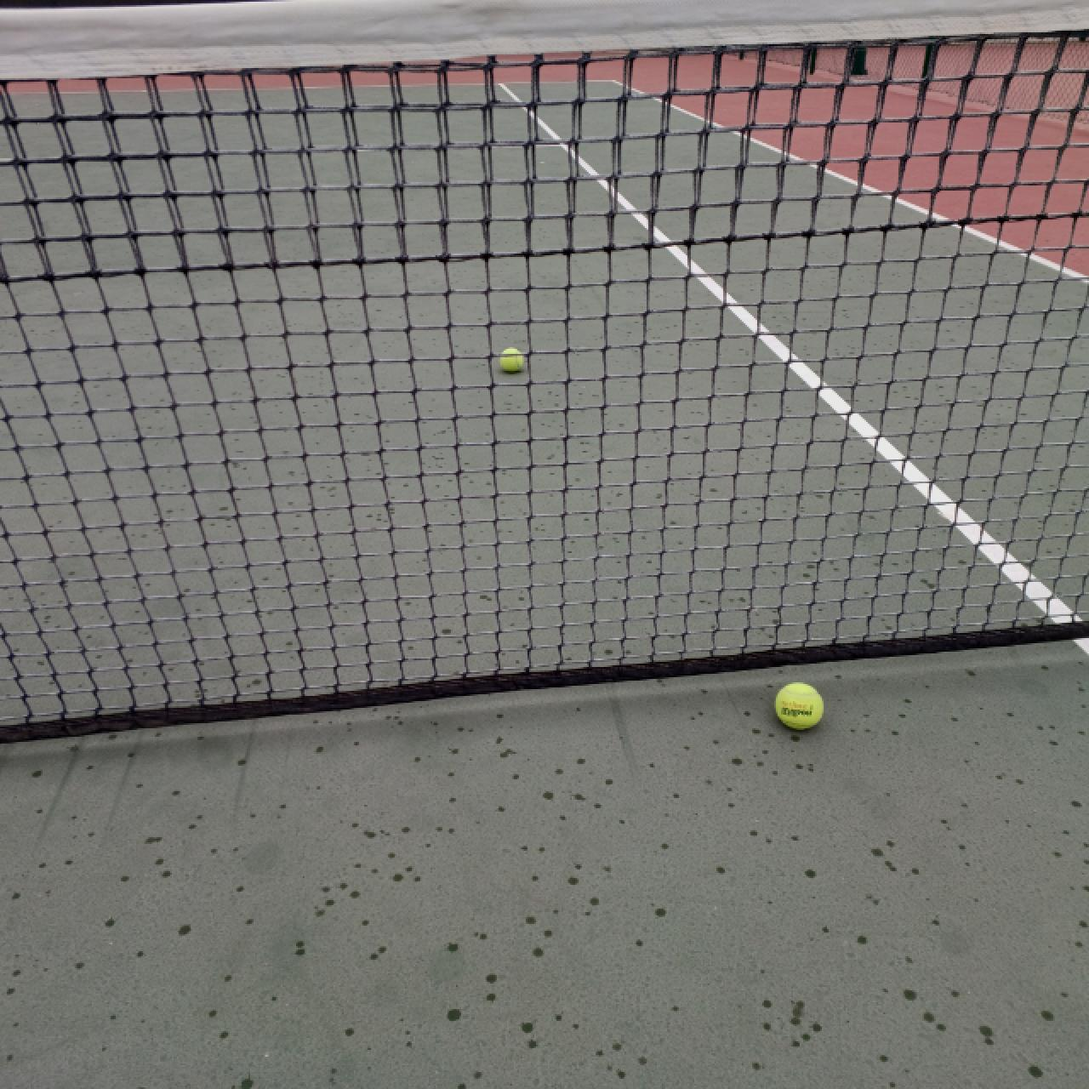tennis-ball: (773, 682, 823, 730), (497, 345, 524, 374)
